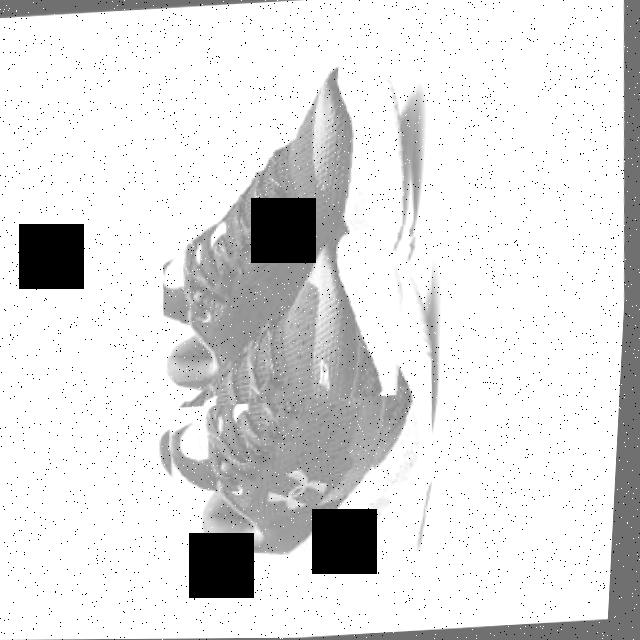shoe: (148, 221, 452, 585), (150, 49, 438, 410)
